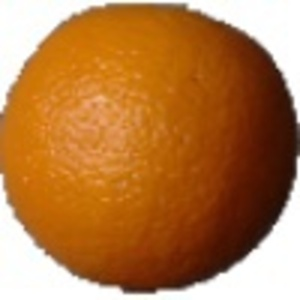laranja: (2, 1, 300, 295)
